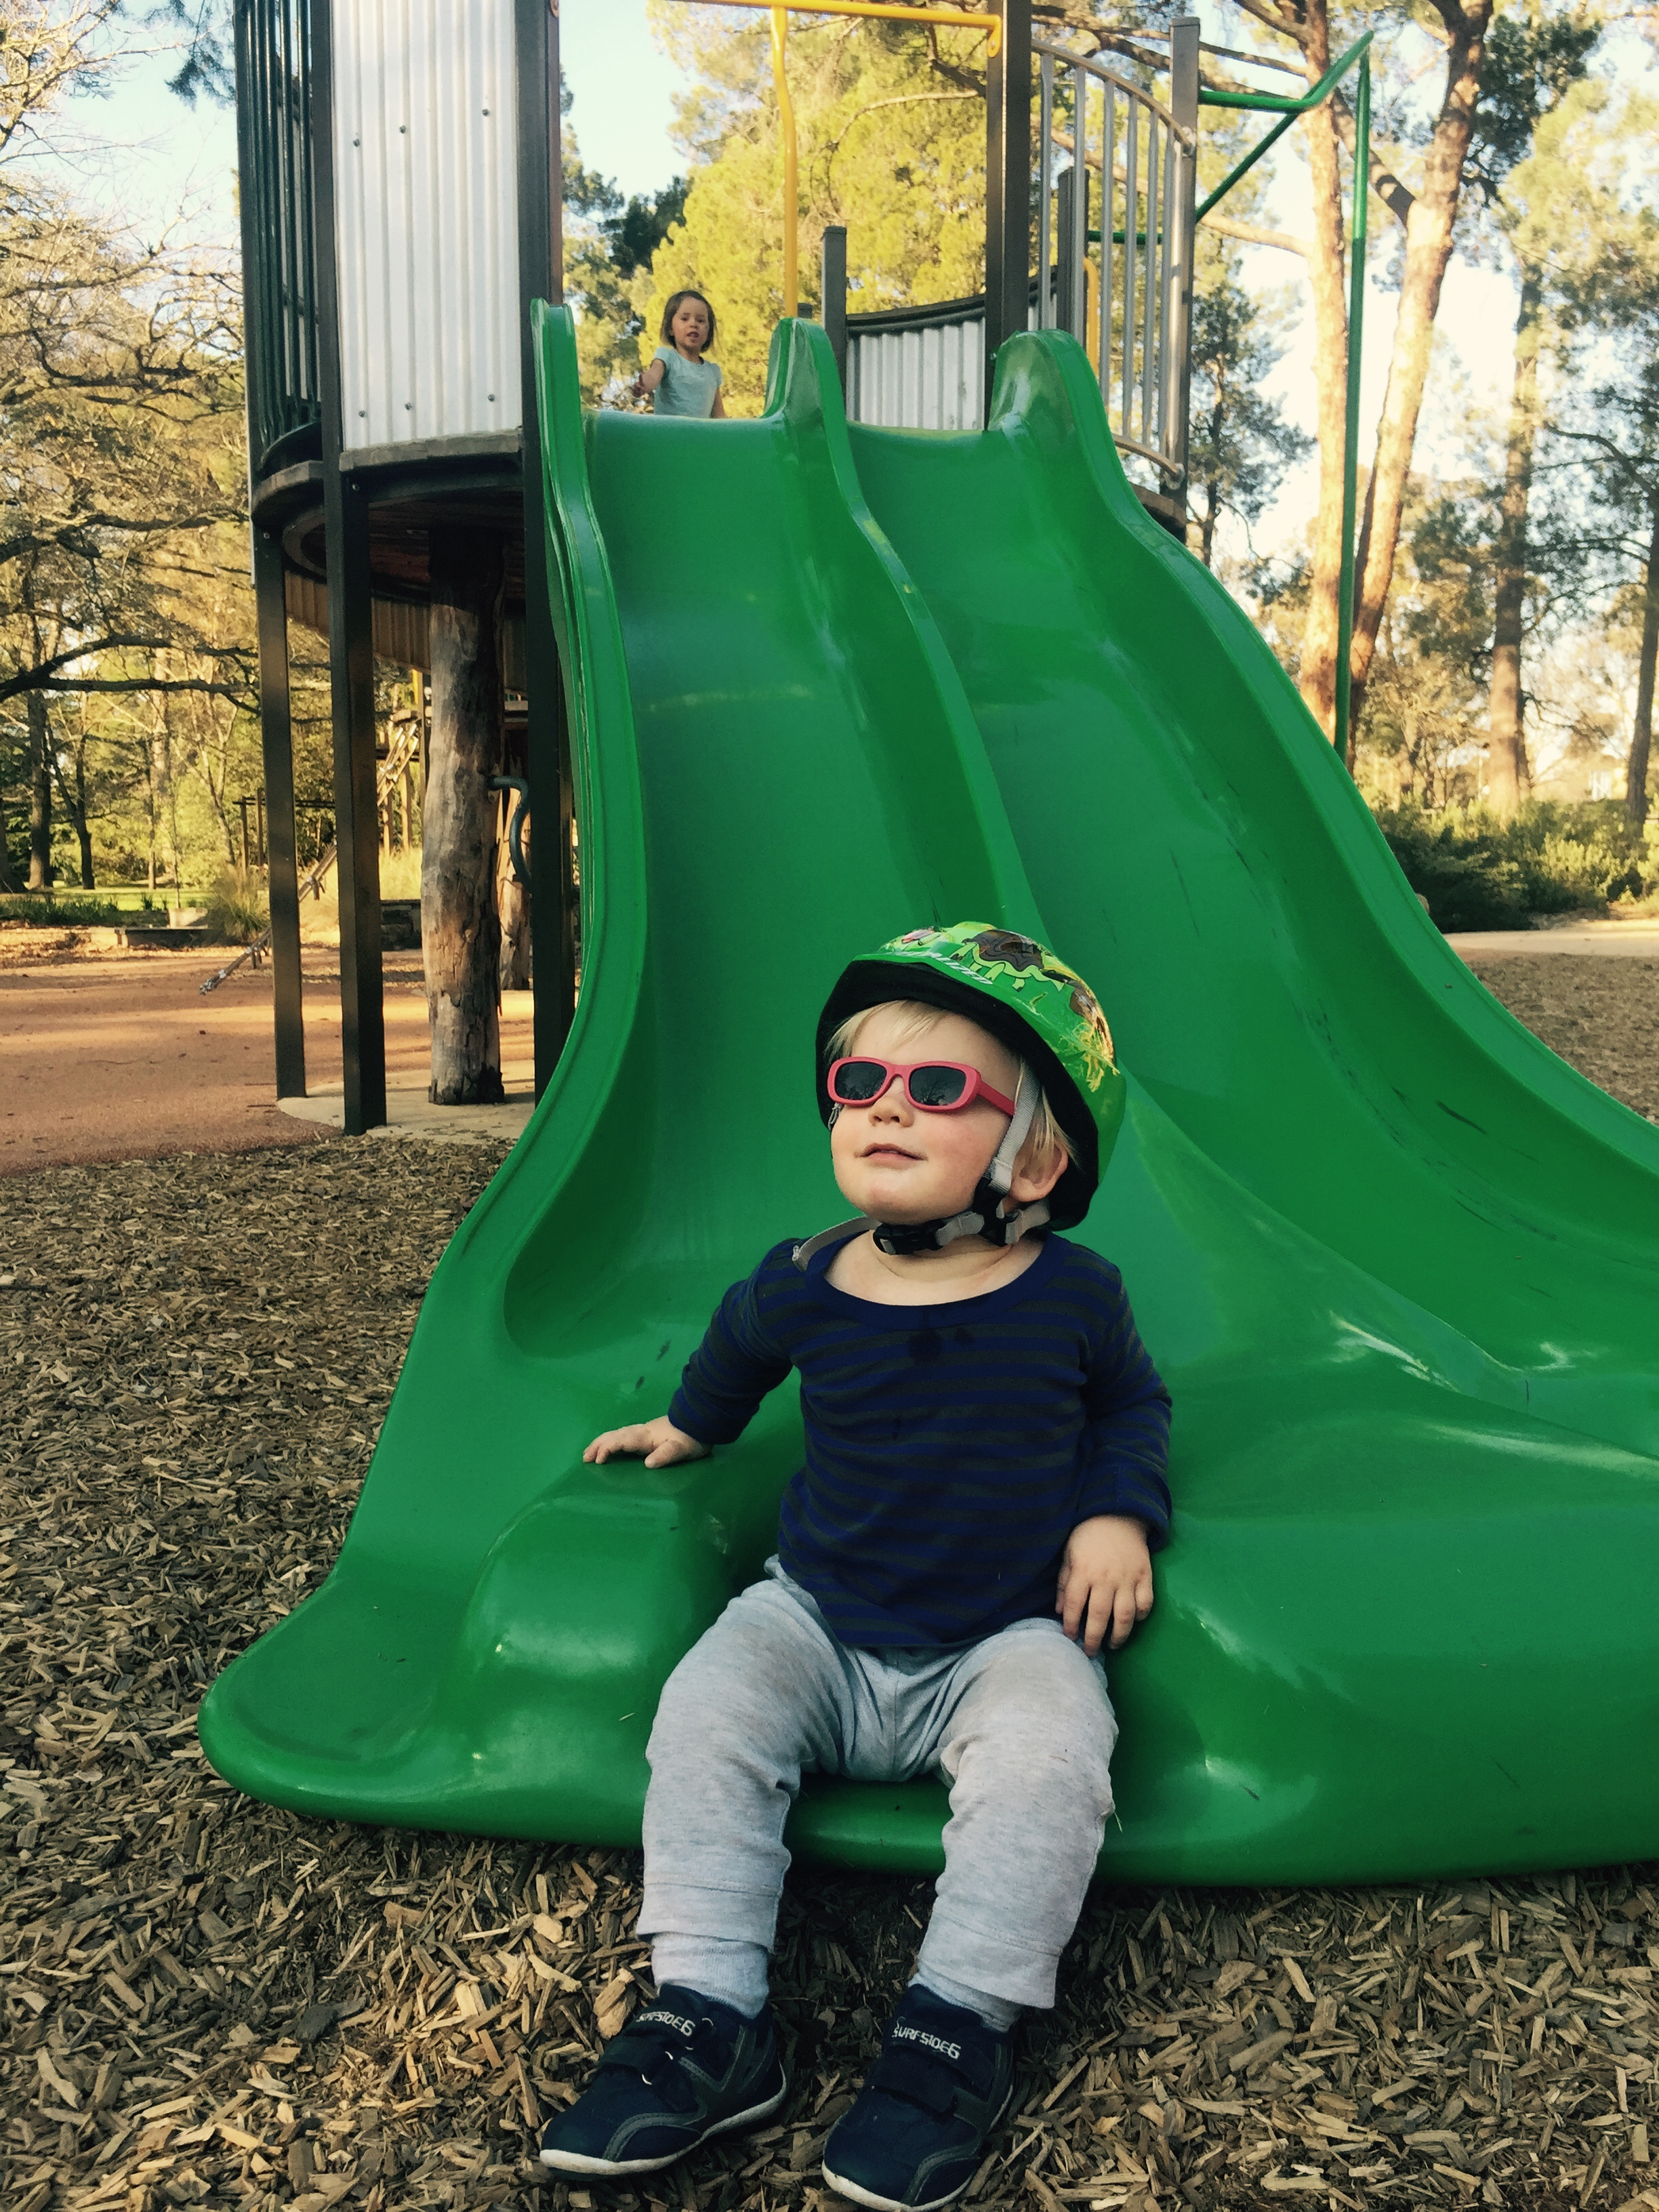helmet: (814, 920, 1127, 1231)
